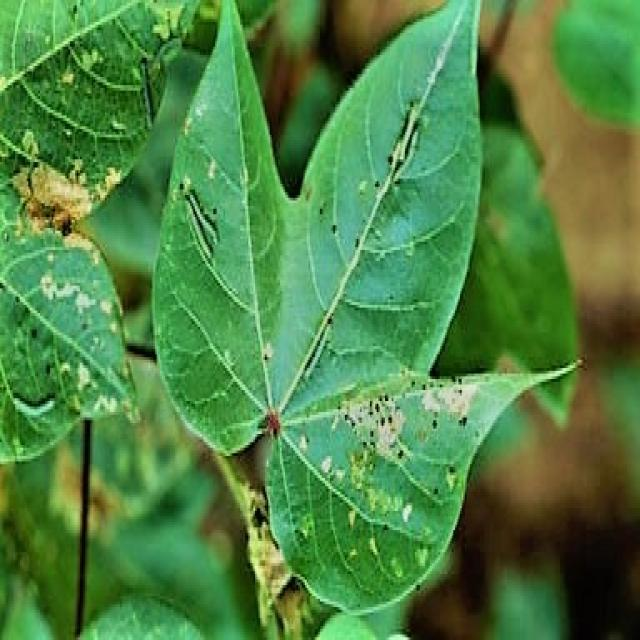armyworm: (180, 182, 224, 266), (10, 386, 64, 424)
